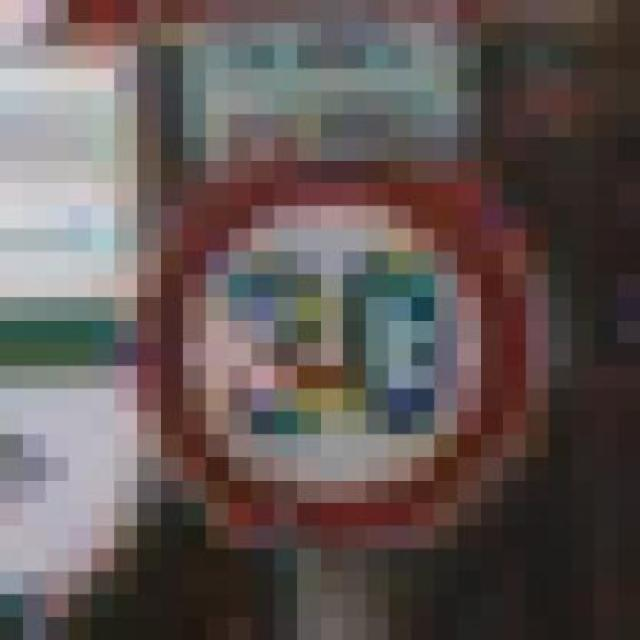Speed Limit 30 KMPh: (69, 137, 572, 572)
